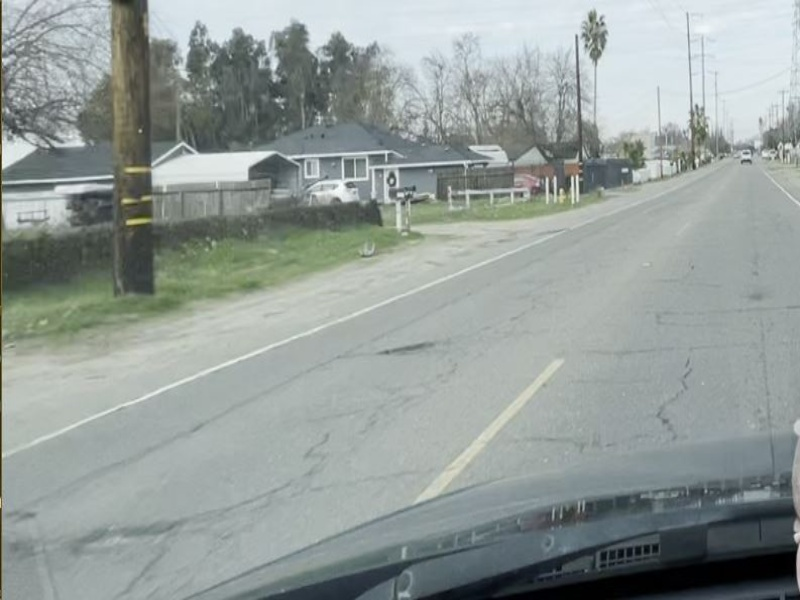pothole: (375, 336, 442, 360)
